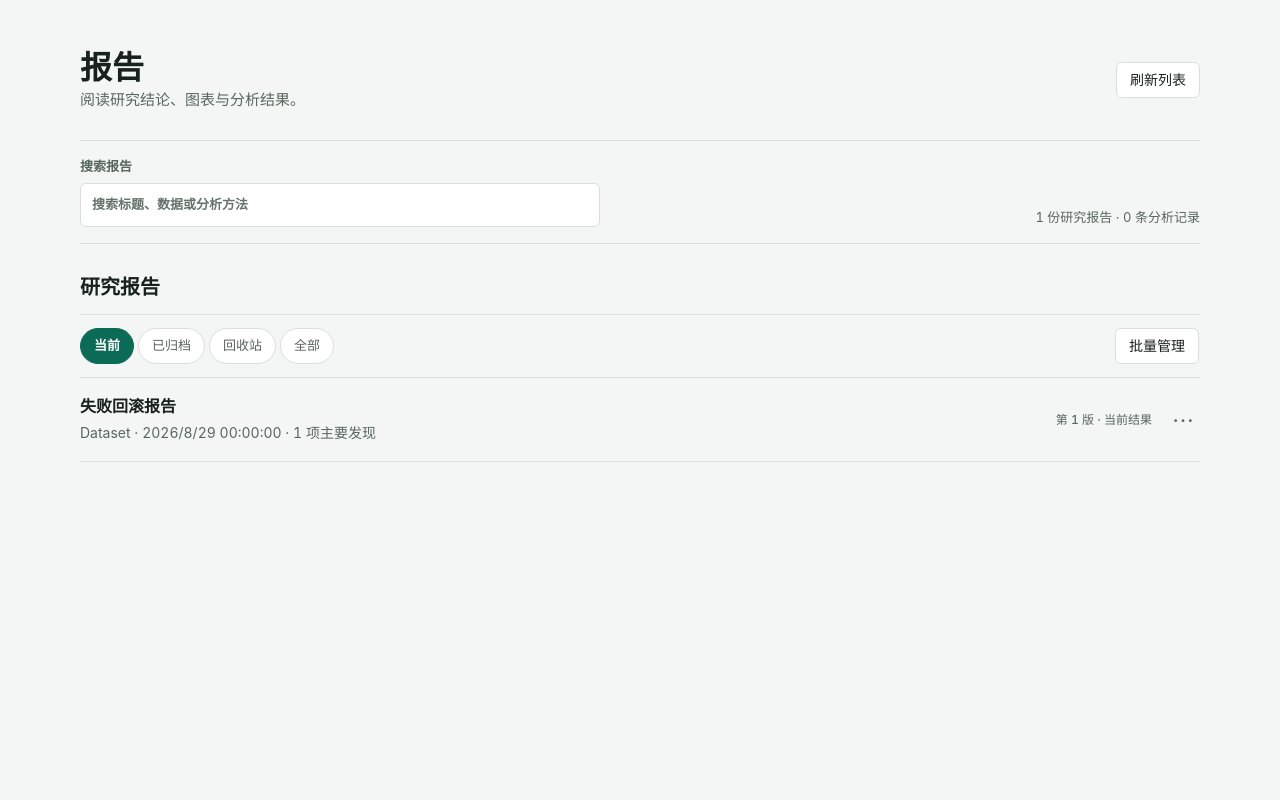
surfaces lifecycle request failures without dropping the report
Step 1. Click the button named "管理 失败回滚报告" → [1180, 419], box [1160,399,1200,439]
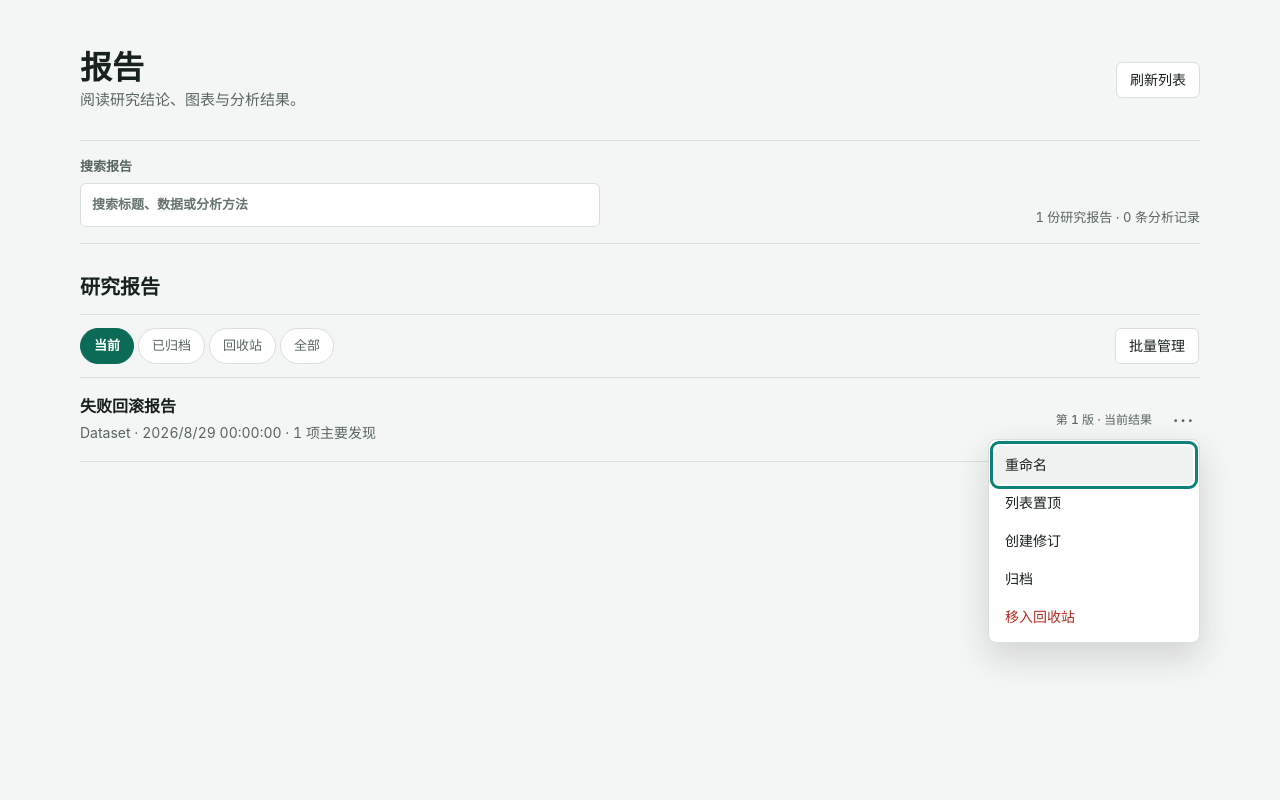
Step 2. Click the menu item "移入回收站" → [1094, 617], box [995,598,1193,636]
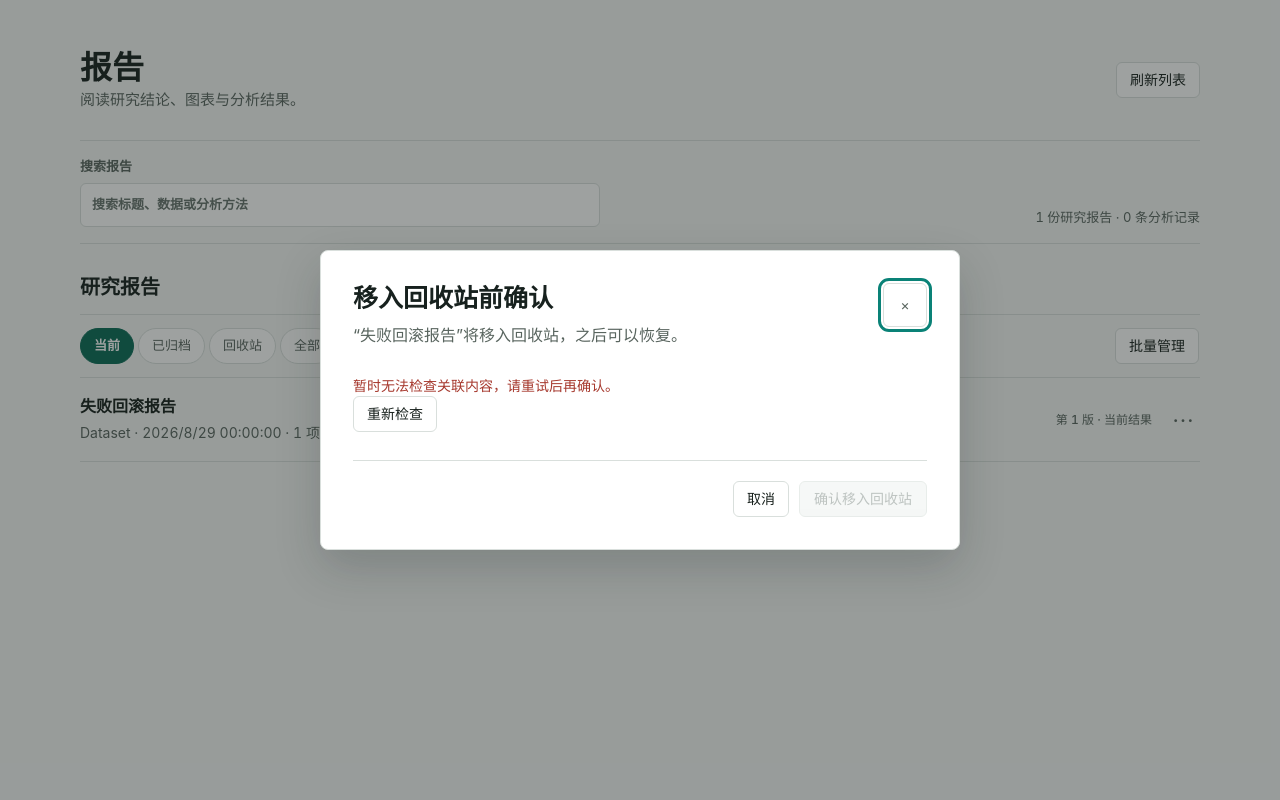
Check: the button named "管理 失败回滚报告" is enabled, box [1160,399,1200,439]
Check: the message shows "暂时无法检查关联内容", box [353,377,619,394]
